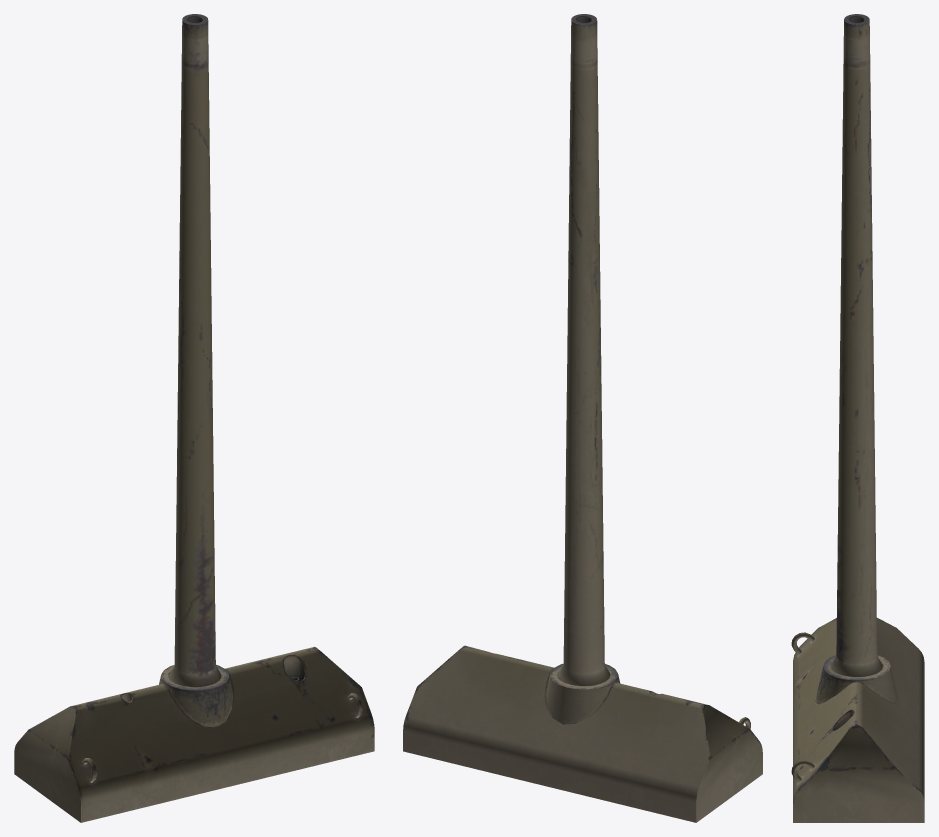
File: Gun_01.glb
3 renders of one model, left to right at view 1: azimuth 30°, elevation 25°; view 2: azimuth 150°, elevation 25°; view 3: azimuth 270°, elevation 25°, orthographic.
Visible parts, largest first — view 1: set_0_group_0; view 2: set_0_group_0; view 3: set_0_group_0.
Part boxes in pixels (x1,y1,x2,y2): set_0_group_0: (14, 14, 374, 822); set_0_group_0: (403, 14, 762, 822); set_0_group_0: (791, 14, 924, 822).
Size of the model in its own units: 1.65 by 3.99 by 0.6555.
1 material, 1 textured.
